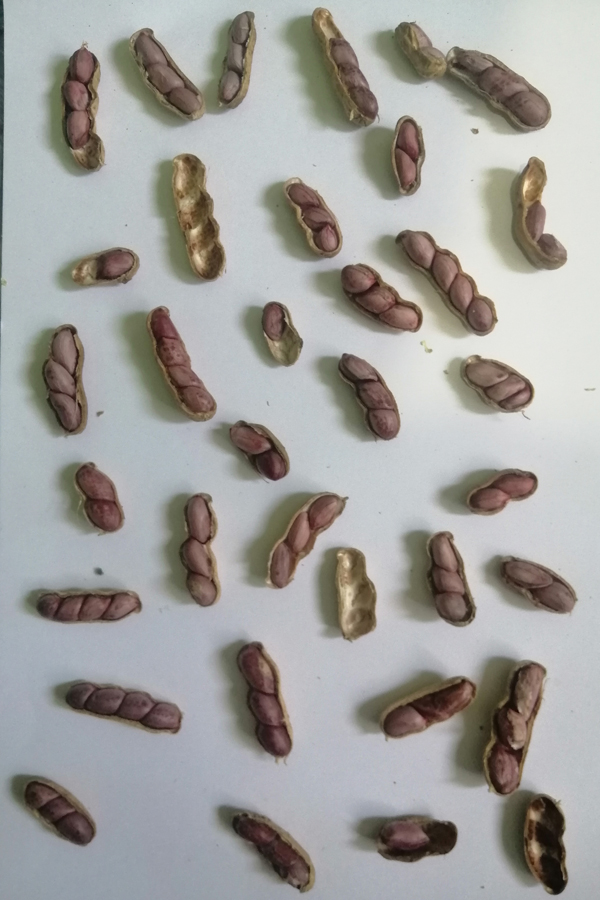Empty: (515, 791, 583, 900), (326, 542, 385, 646)
Four: (392, 223, 499, 339), (136, 302, 224, 428), (61, 667, 187, 746), (164, 151, 231, 284), (24, 581, 150, 632)
One: (368, 809, 461, 865), (254, 298, 317, 374), (61, 242, 143, 295)
Three: (299, 1, 385, 142), (261, 484, 350, 600), (443, 44, 559, 130), (231, 635, 301, 772), (482, 658, 552, 793), (222, 807, 325, 893), (52, 42, 112, 177), (124, 26, 206, 121), (171, 491, 233, 614), (415, 523, 478, 635), (340, 256, 417, 346), (15, 772, 102, 850), (280, 174, 352, 265), (36, 319, 92, 430), (333, 351, 403, 439), (454, 351, 538, 416), (208, 12, 259, 112)
Two: (496, 153, 573, 279), (489, 544, 580, 623), (373, 674, 475, 744), (222, 414, 299, 486), (66, 458, 136, 537), (464, 463, 543, 528), (385, 114, 431, 205), (392, 14, 447, 86)
